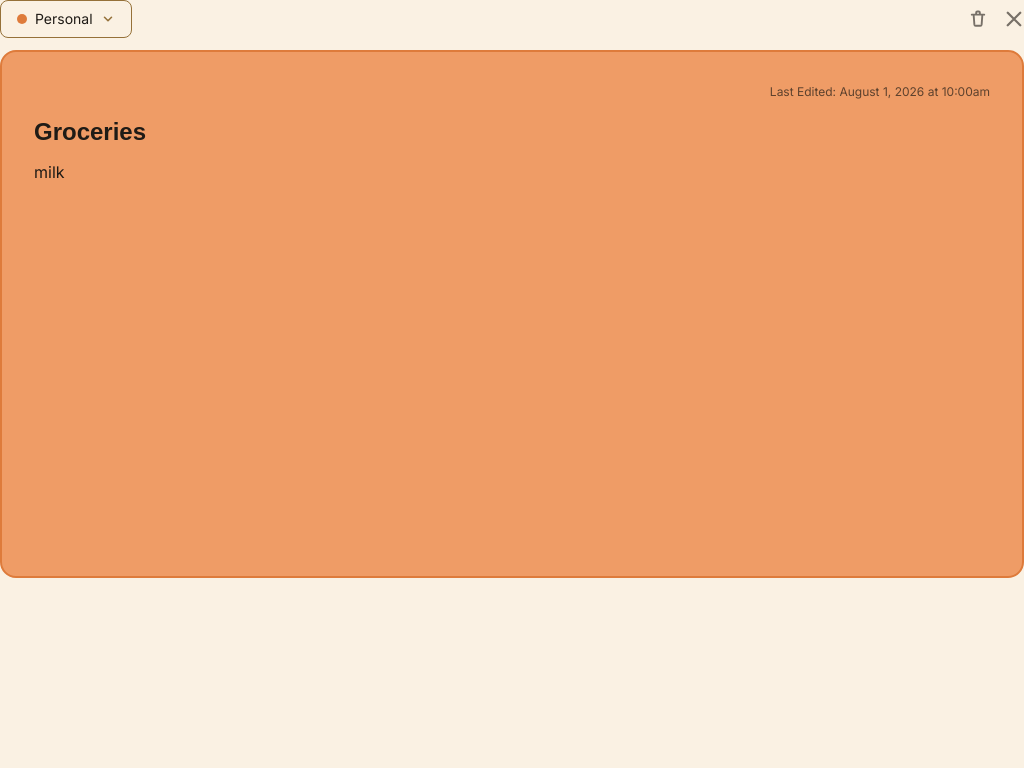
Test case: NoteEditor archiving › confirms in an in-app dialog naming the note, not window.confirm
Click the button named "archive note": coordinates (978, 19) [968,9,988,29]
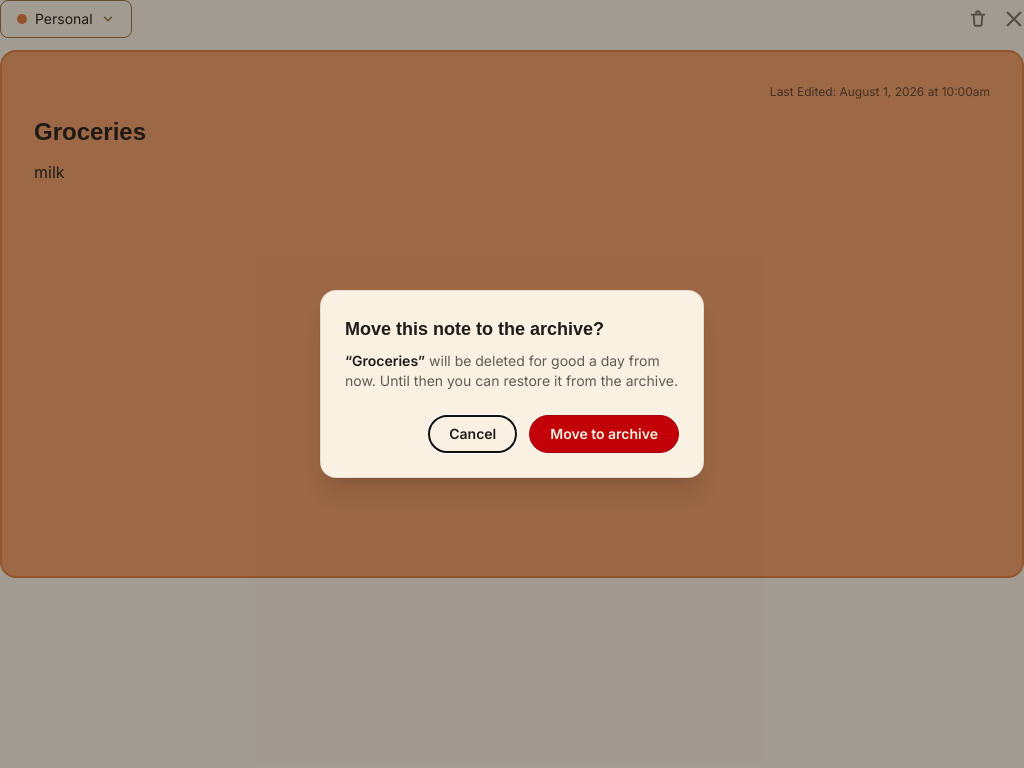
Expected: the dialog shows "Groceries", [352,352,418,369]
